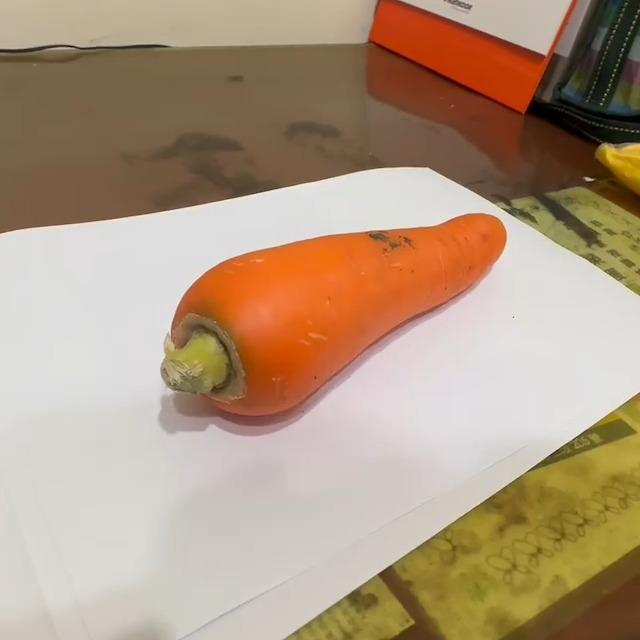carrot: (159, 207, 510, 419)
